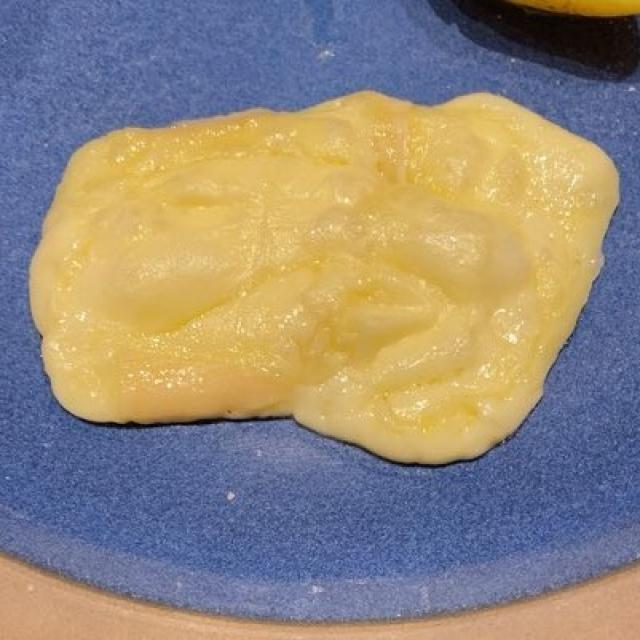cheese: (42, 97, 612, 460)
